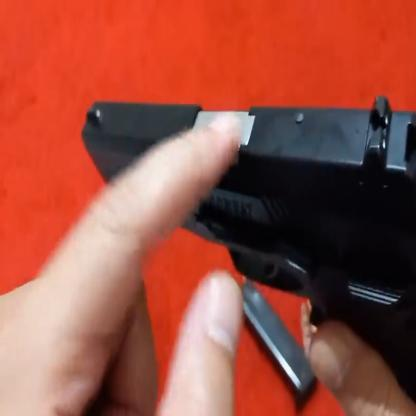handgun: (84, 76, 416, 331)
